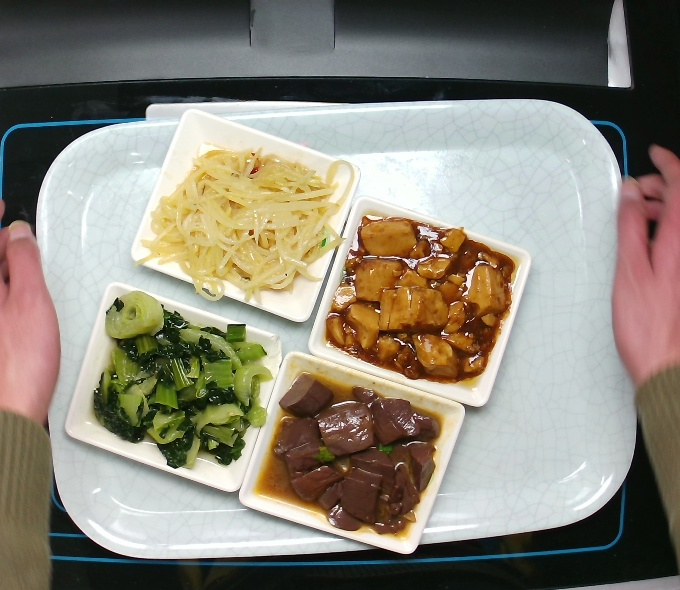wcq-MaPoDouFu: (313, 195, 514, 401)
wcq-NiuXue: (245, 374, 457, 541)
wcq-TuDouSi: (130, 135, 343, 307)
wcq-YouDongCai: (70, 292, 277, 477)
